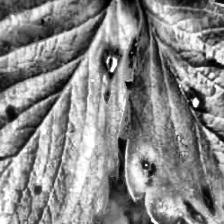Leaf Spot: (0, 0, 139, 224), (118, 0, 224, 224)
